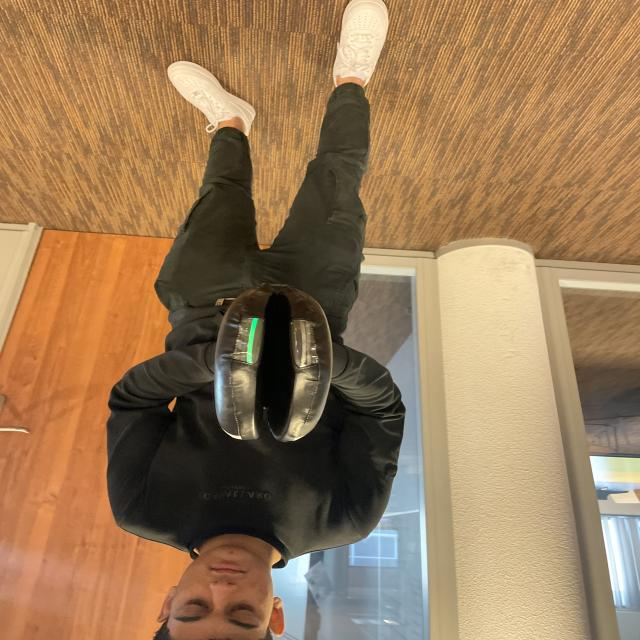paddle: (216, 286, 334, 439)
trigger: (237, 317, 265, 369)
